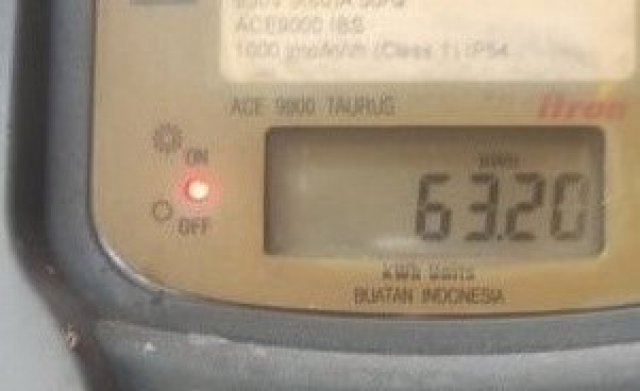box: (267, 128, 602, 253)
